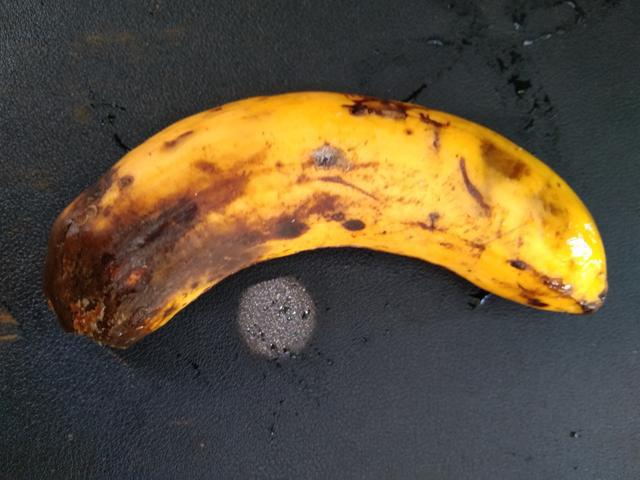rotten: (41, 76, 638, 404)
